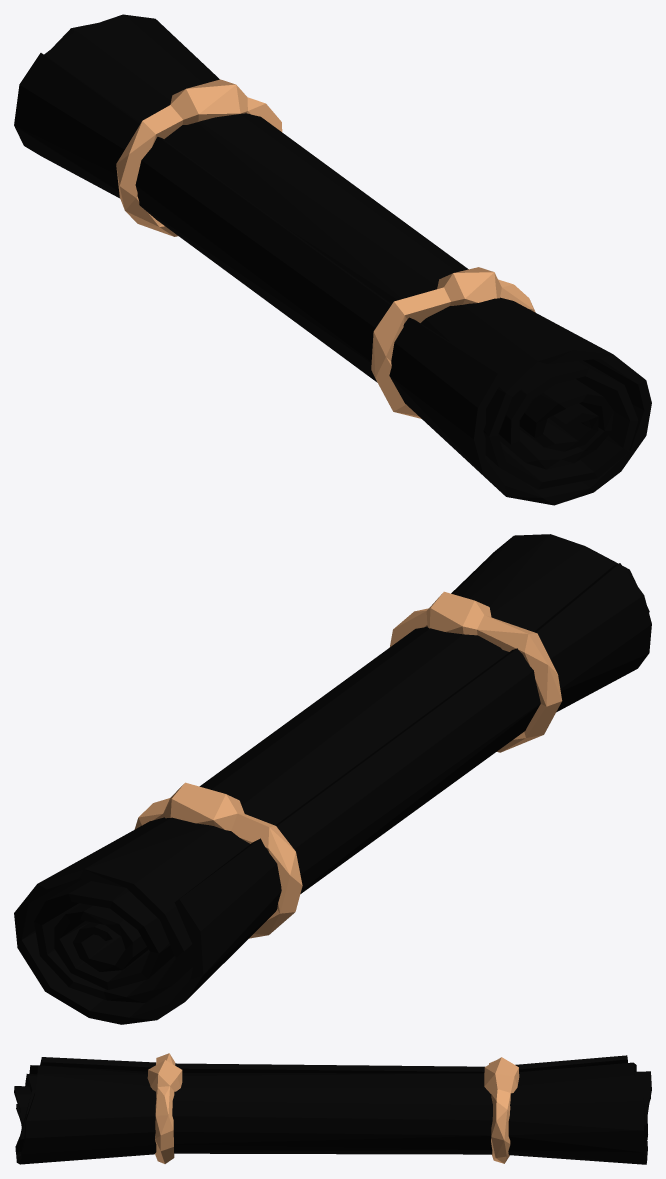
The model's file is Cloth 06.fbx.
3 views of the same model, one above another, from view 1: azimuth 30°, elevation 25°; view 2: azimuth 150°, elevation 25°; view 3: azimuth 270°, elevation 25° (orthographic). The views are drawn at different scales.
Visible parts, largest first — view 1: Cloth 06; view 2: Cloth 06; view 3: Cloth 06.
Part boxes in pixels (left/top/right/bottom): Cloth 06: left=14, top=14, right=651, bottom=505; Cloth 06: left=14, top=534, right=651, bottom=1024; Cloth 06: left=14, top=1053, right=651, bottom=1164.
Size of the model in its own units: 41.74 by 33.13 by 198.
